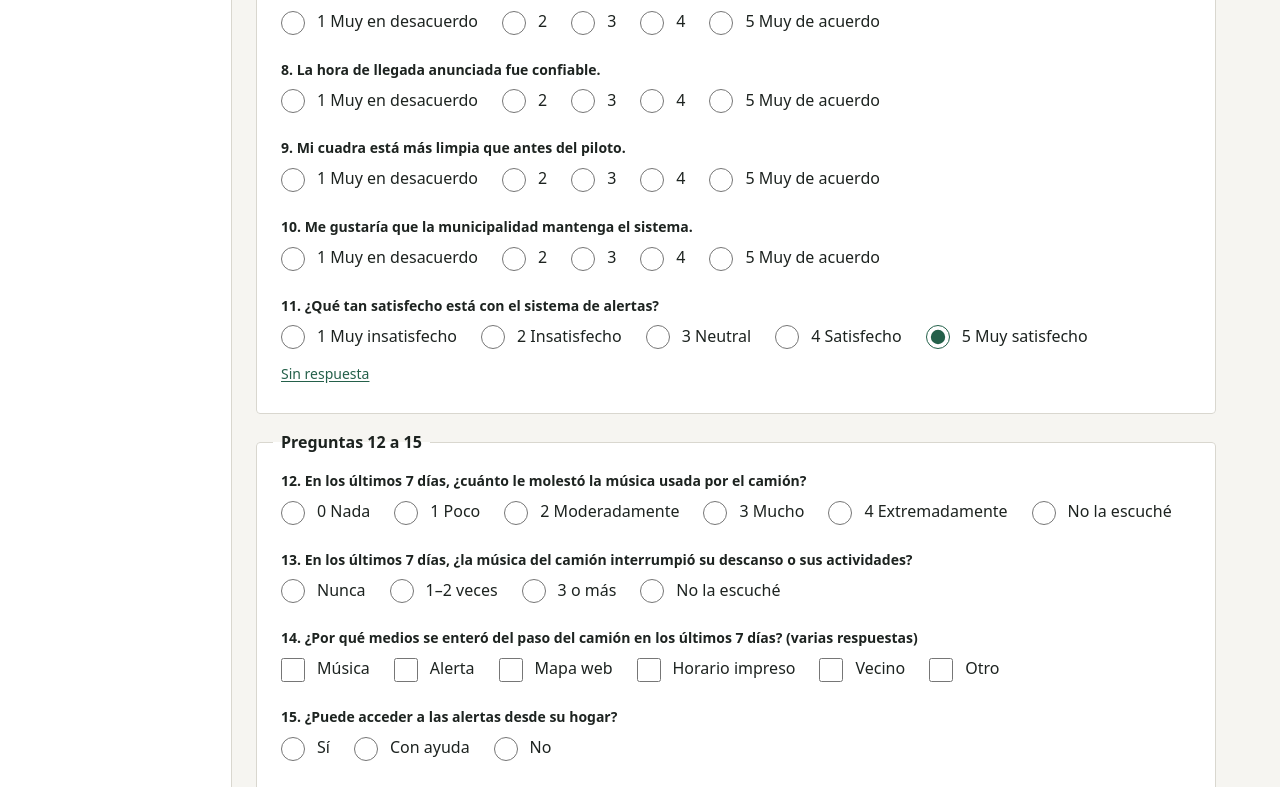
Test: SurveyEditorPage › opens a stored survey, keeps its household and wave, and saves the edit
(page scrolled)
Click the radio button labelled "3 Neutral" at (658, 337), box [646,325,670,349]
(page scrolled)
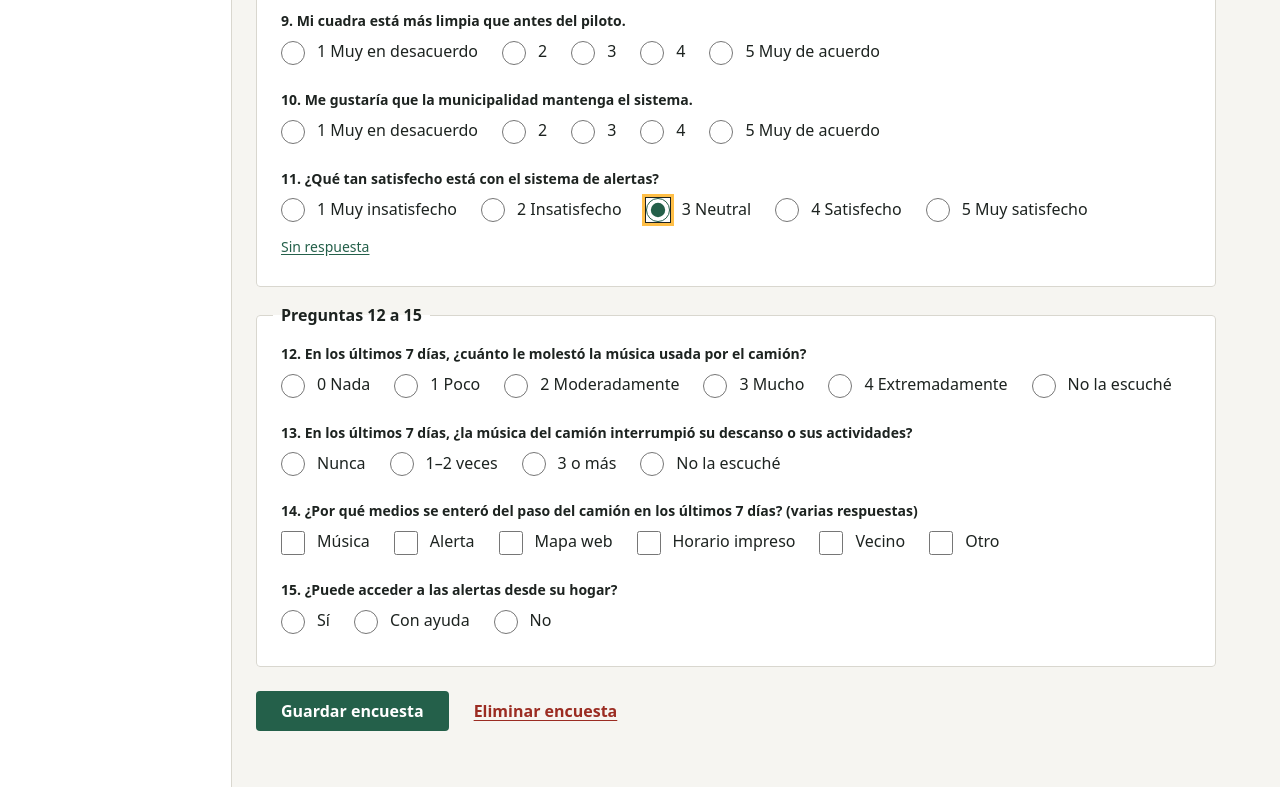
Click the button "Guardar encuesta" at (352, 710), box [256,690,449,730]
(page scrolled)
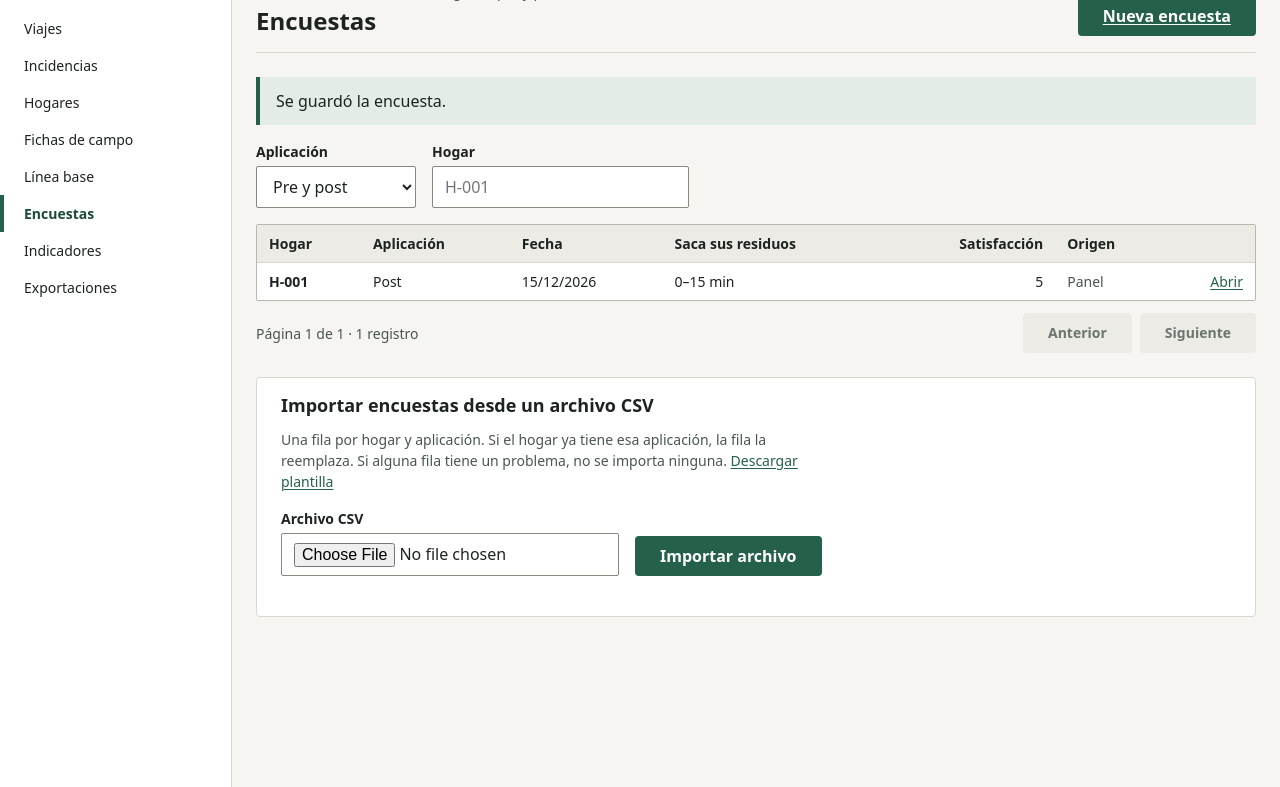
Result: the text "Se guardó la encuesta." is shown at [276,90,446,112]
